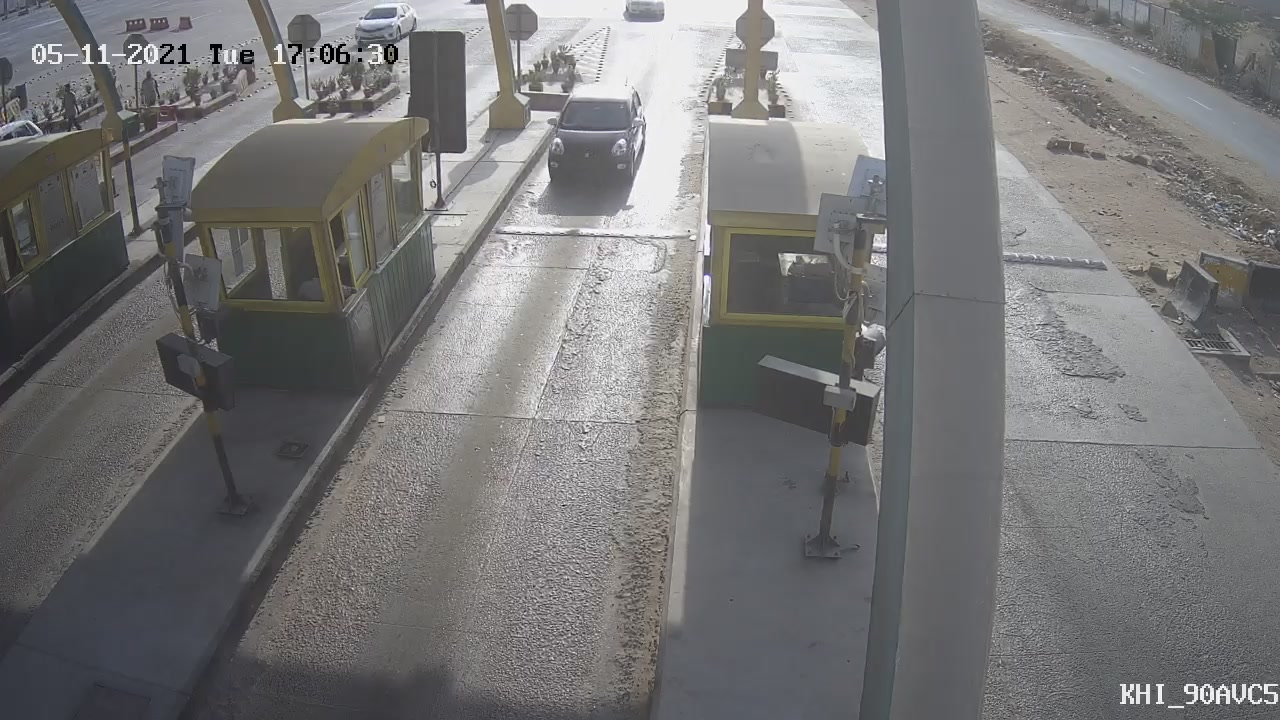F1: (524, 65, 665, 205)
